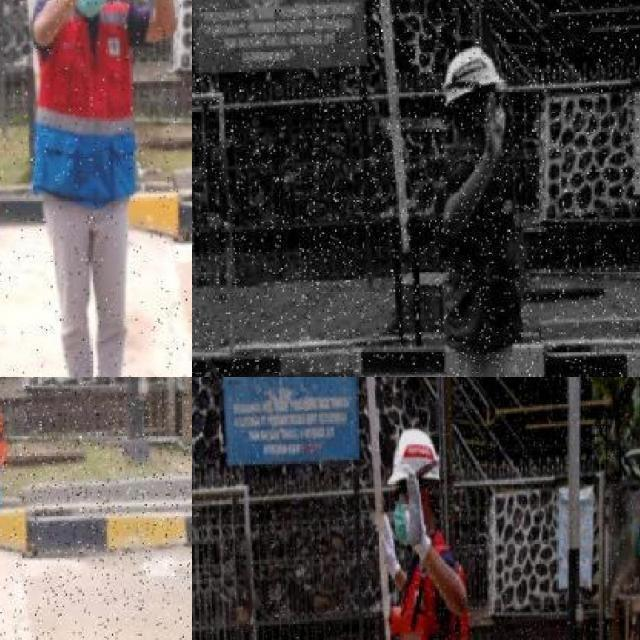apron: (402, 468, 432, 562), (380, 512, 402, 582)
